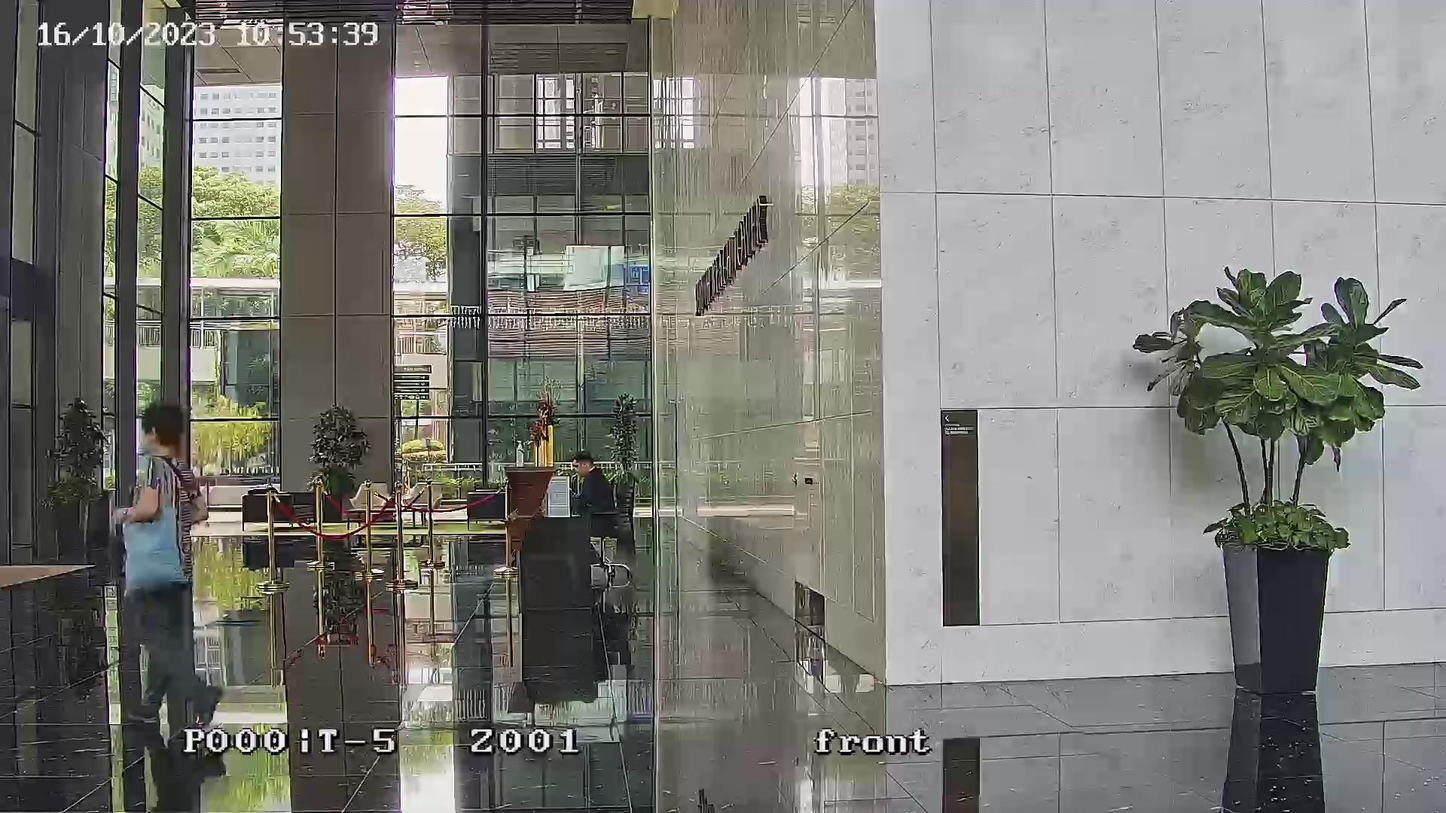person: (110, 402, 213, 741), (572, 451, 616, 526)
